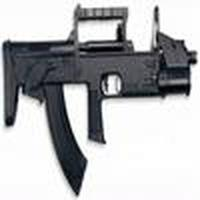gun: (1, 27, 200, 144)
